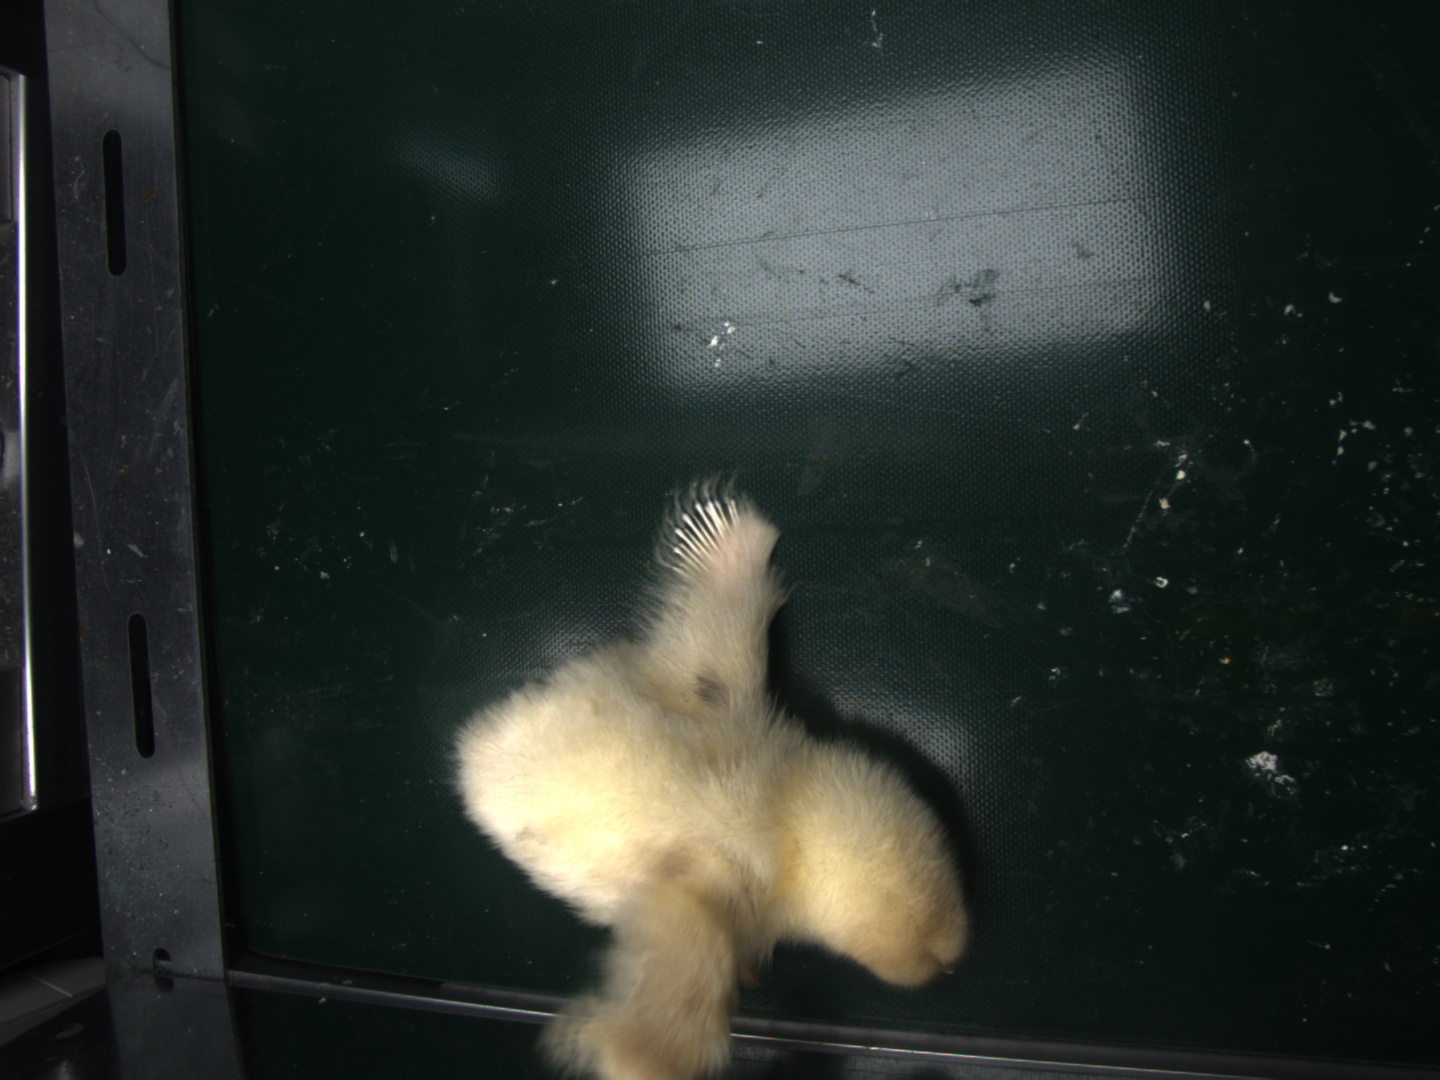male: (672, 499, 744, 574)
